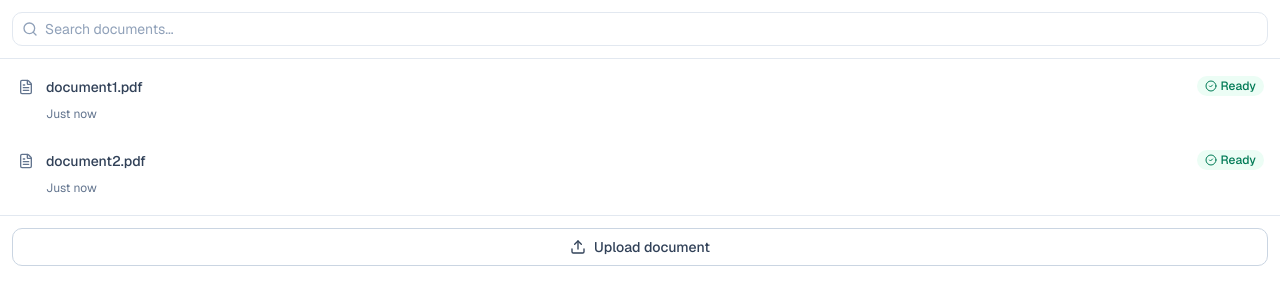
DocumentList › AC-4.3.6: Search/Filter › clears search when clear button is clicked
This screenshot has width=1280, height=283.
Type "document1" into the field with placeholder "Search documents..." at [640, 29], box [12,12,1268,46]
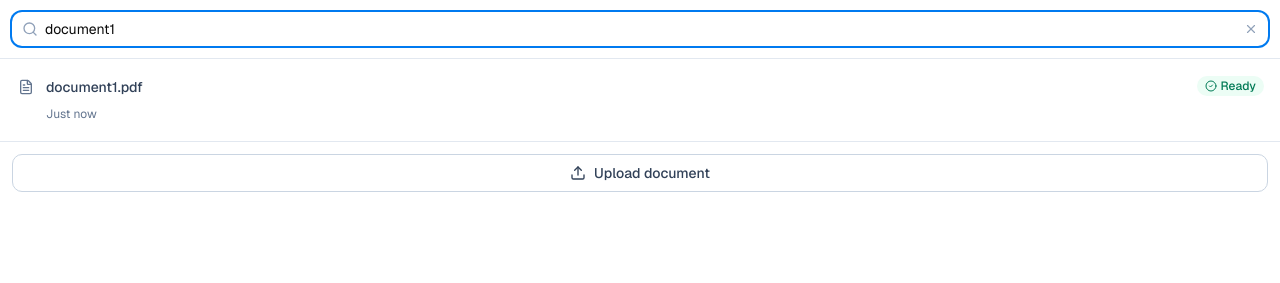
Now the button "document2.pdf" is gone
Click the button named "Clear search" at [1251, 29], box [1242,20,1260,38]
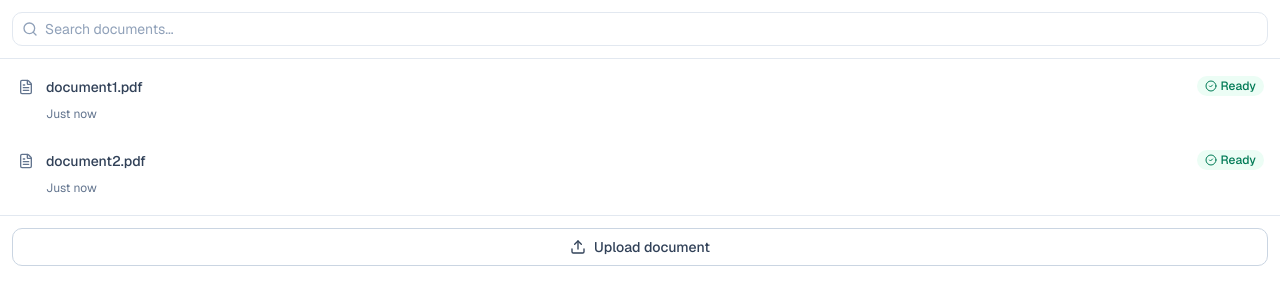
Expected: the text "document1.pdf" is shown, [46,78,143,96]
Now the text "document2.pdf" is shown, box [46,152,146,170]
